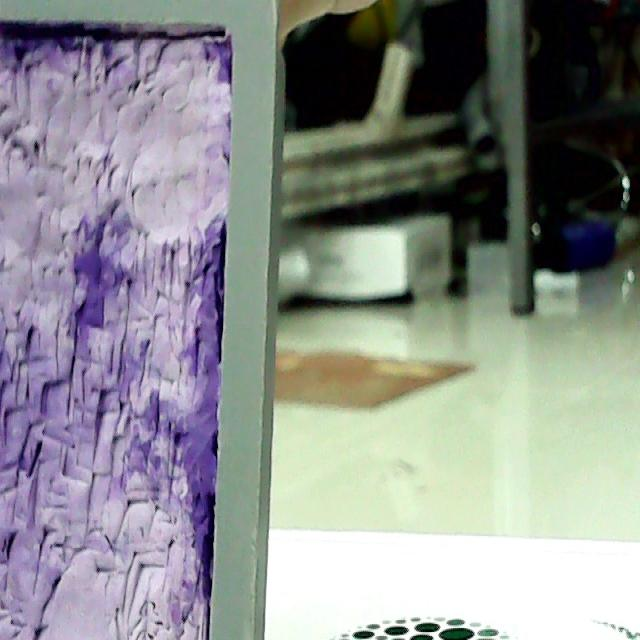block: (0, 0, 290, 639)
